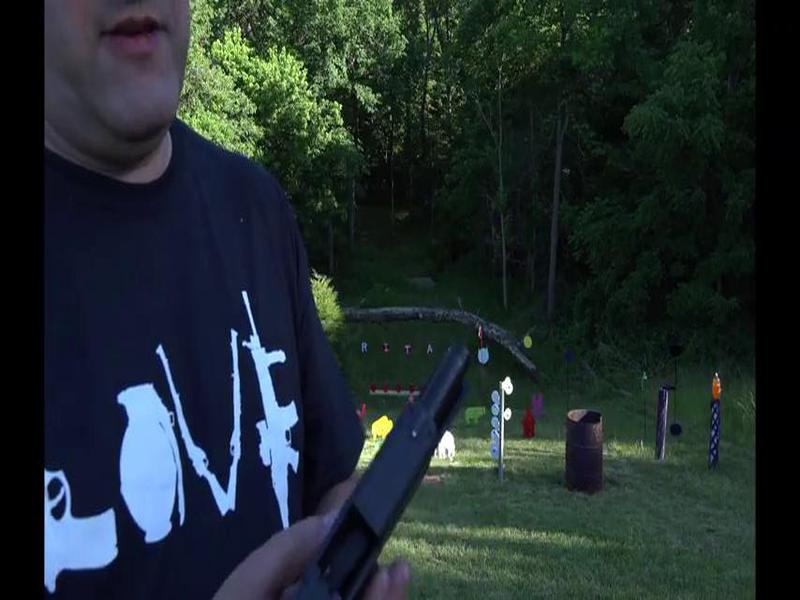Pistola: (306, 327, 489, 600)
